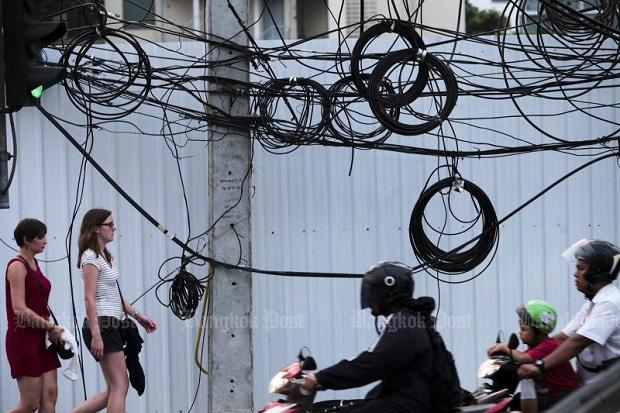wires: (30, 104, 362, 327), (251, 0, 620, 158), (409, 179, 500, 274), (59, 28, 152, 120)
